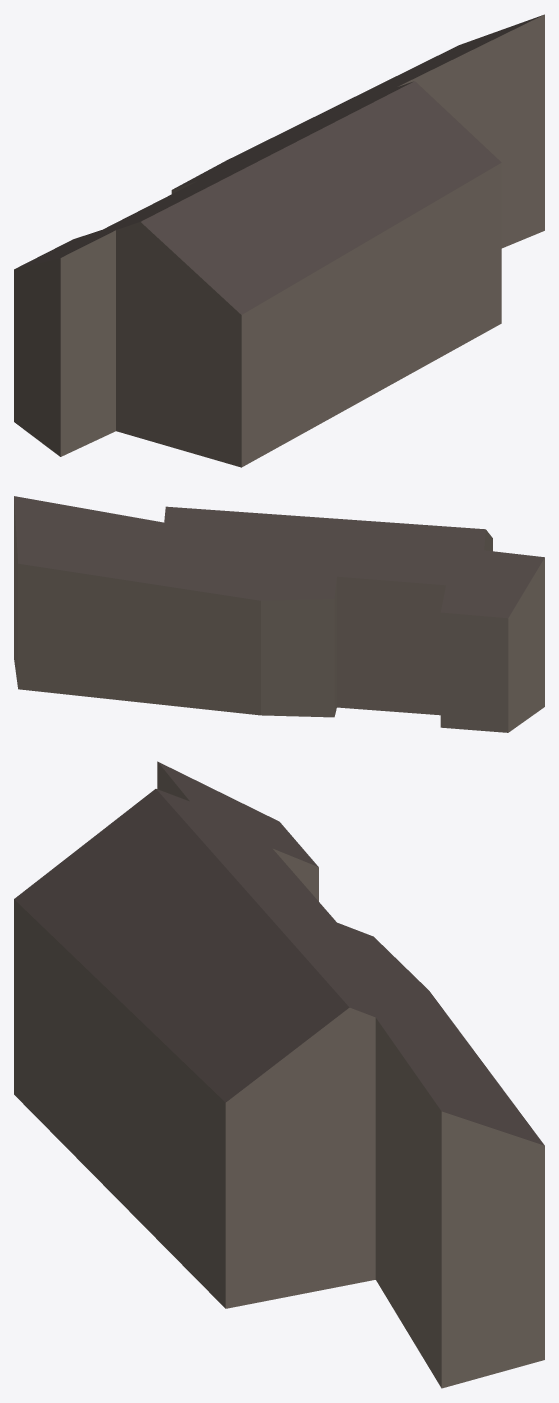
3 renders of one model, top to bottom at view 1: azimuth 30°, elevation 25°; view 2: azimuth 150°, elevation 25°; view 3: azimuth 270°, elevation 25°, orthographic. The views are drawn at different scales.
Parts seen in each view (by area): view 1: HP-w1513026718; view 2: HP-w1513026718; view 3: HP-w1513026718.
Part boxes in pixels (box(x1,y1,x2,y2)): HP-w1513026718: box(14, 14, 544, 467); HP-w1513026718: box(14, 496, 544, 732); HP-w1513026718: box(14, 761, 544, 1388).
Size of the model in its own units: 36.76 by 12.77 by 22.16.
